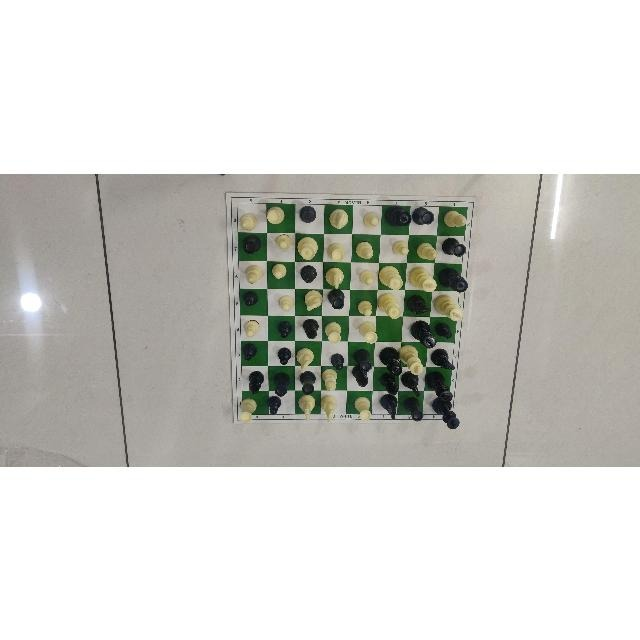black-bishop: (295, 202, 320, 226), (246, 366, 266, 393), (300, 314, 320, 339), (378, 374, 402, 394), (299, 265, 319, 283), (349, 373, 369, 388)
black-king: (426, 370, 458, 400), (432, 399, 460, 431), (411, 317, 436, 349)
black-knight: (405, 292, 431, 316), (379, 394, 401, 419), (434, 347, 457, 370), (406, 374, 424, 394)
black-pawn: (327, 349, 349, 368), (275, 345, 293, 365), (241, 289, 259, 307), (278, 318, 294, 337), (242, 343, 258, 362), (437, 323, 455, 339), (267, 395, 282, 414)
black-queen: (441, 263, 469, 291), (377, 344, 402, 373), (385, 202, 411, 225)
black-rook: (440, 234, 467, 258), (240, 231, 263, 254), (411, 205, 436, 226), (326, 287, 348, 309), (352, 347, 372, 370), (271, 370, 289, 395), (406, 396, 424, 419), (297, 373, 318, 392)
white-bishop: (441, 207, 468, 229), (235, 211, 260, 231), (354, 237, 375, 259), (244, 260, 265, 282), (416, 240, 437, 260), (323, 367, 339, 390)
white-king: (434, 292, 464, 322), (409, 264, 439, 292), (399, 342, 422, 374)
white-knight: (323, 263, 347, 288), (318, 393, 340, 419), (295, 346, 317, 371), (295, 393, 316, 419), (300, 289, 323, 312), (329, 203, 349, 229)
white-pawn: (356, 264, 377, 289), (242, 318, 263, 341), (275, 294, 298, 312), (275, 232, 294, 252), (355, 297, 375, 316), (392, 237, 410, 257), (363, 209, 380, 229), (271, 261, 289, 279)
white-queen: (295, 231, 323, 262), (378, 263, 406, 291), (377, 292, 405, 320)
white-rook: (354, 393, 376, 421), (354, 319, 379, 343), (322, 319, 345, 345), (236, 395, 258, 421), (265, 203, 286, 225), (326, 239, 346, 262)
